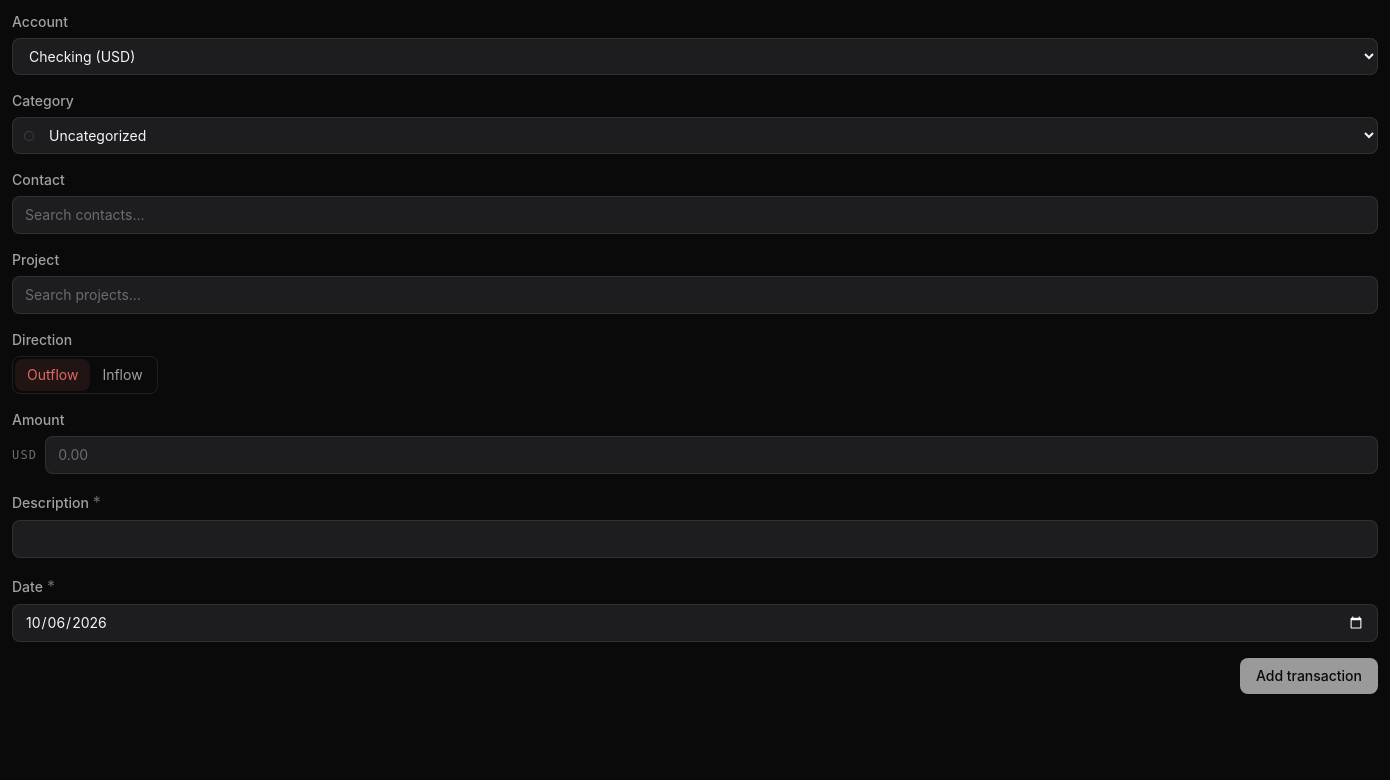
TransactionForm — create › fills an empty category with the selected contact's default category
Expected: the dropdown labelled "Category" shows "Uncategorized", left=12, top=117, right=1378, bottom=154
Focus the dropdown labelled "Contact": coordinates (695, 215) left=12, top=196, right=1378, bottom=234
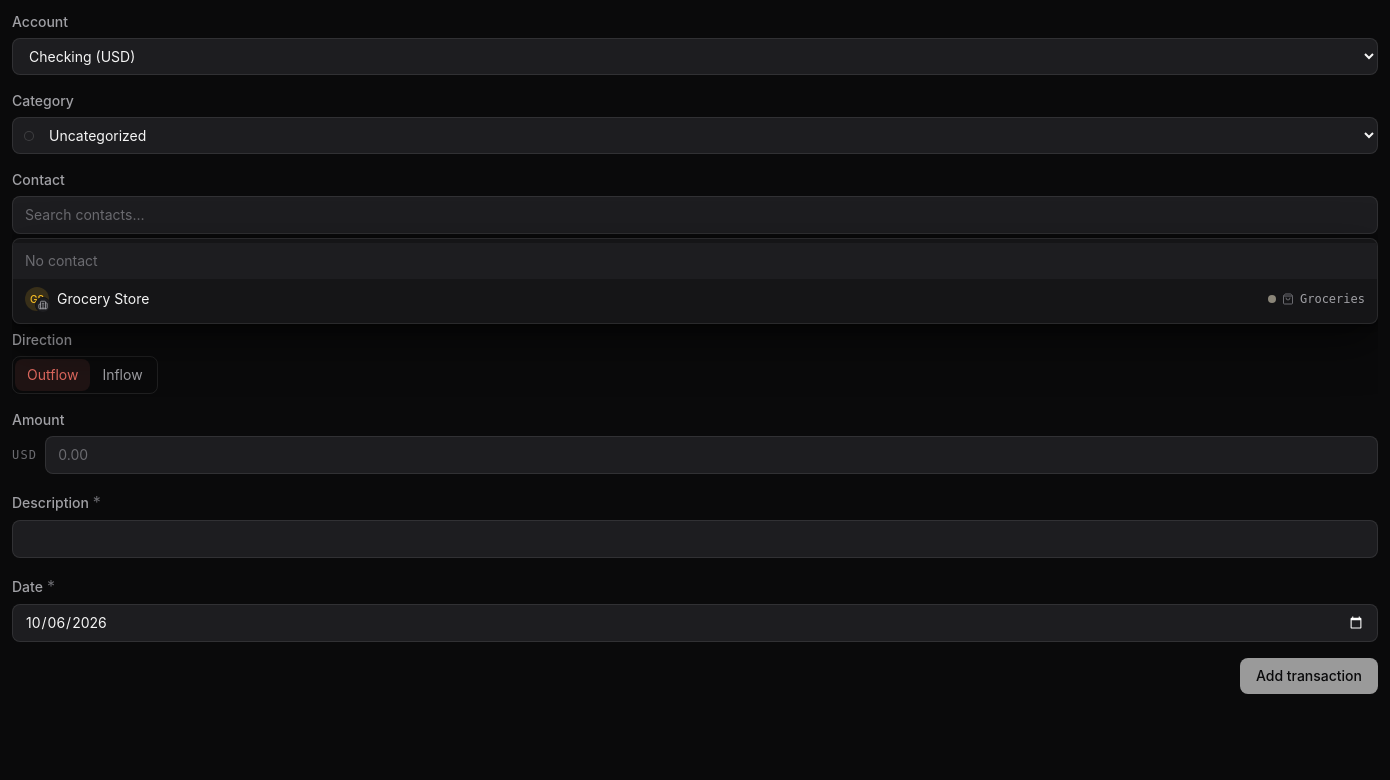
Click the option "GS Grocery Store Groceries": coordinates (103, 298) left=13, top=279, right=1377, bottom=319
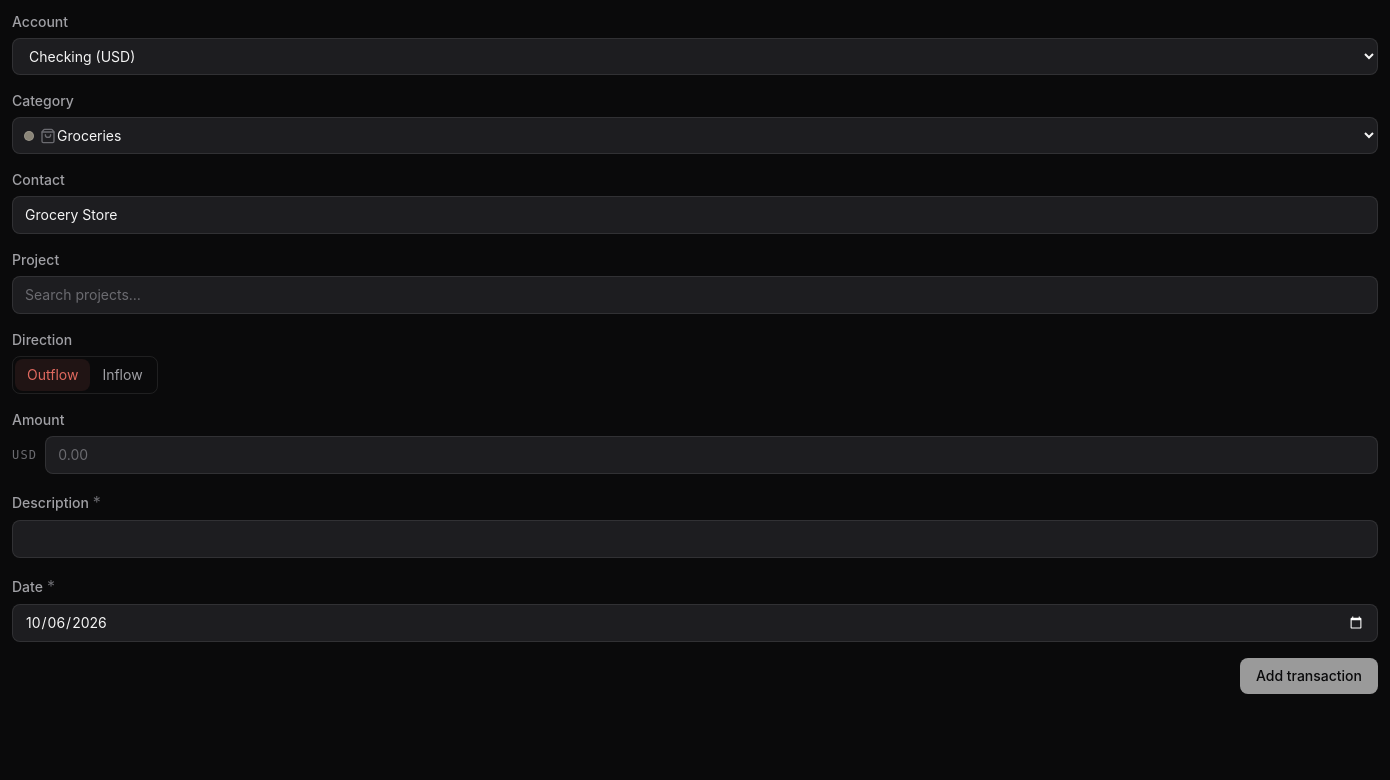
Expected: the dropdown labelled "Category" shows "Groceries", left=12, top=117, right=1378, bottom=154
